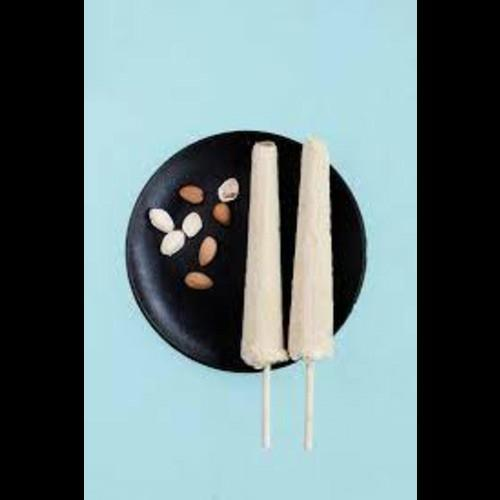Kulfi: (283, 129, 333, 364), (240, 140, 289, 368)
